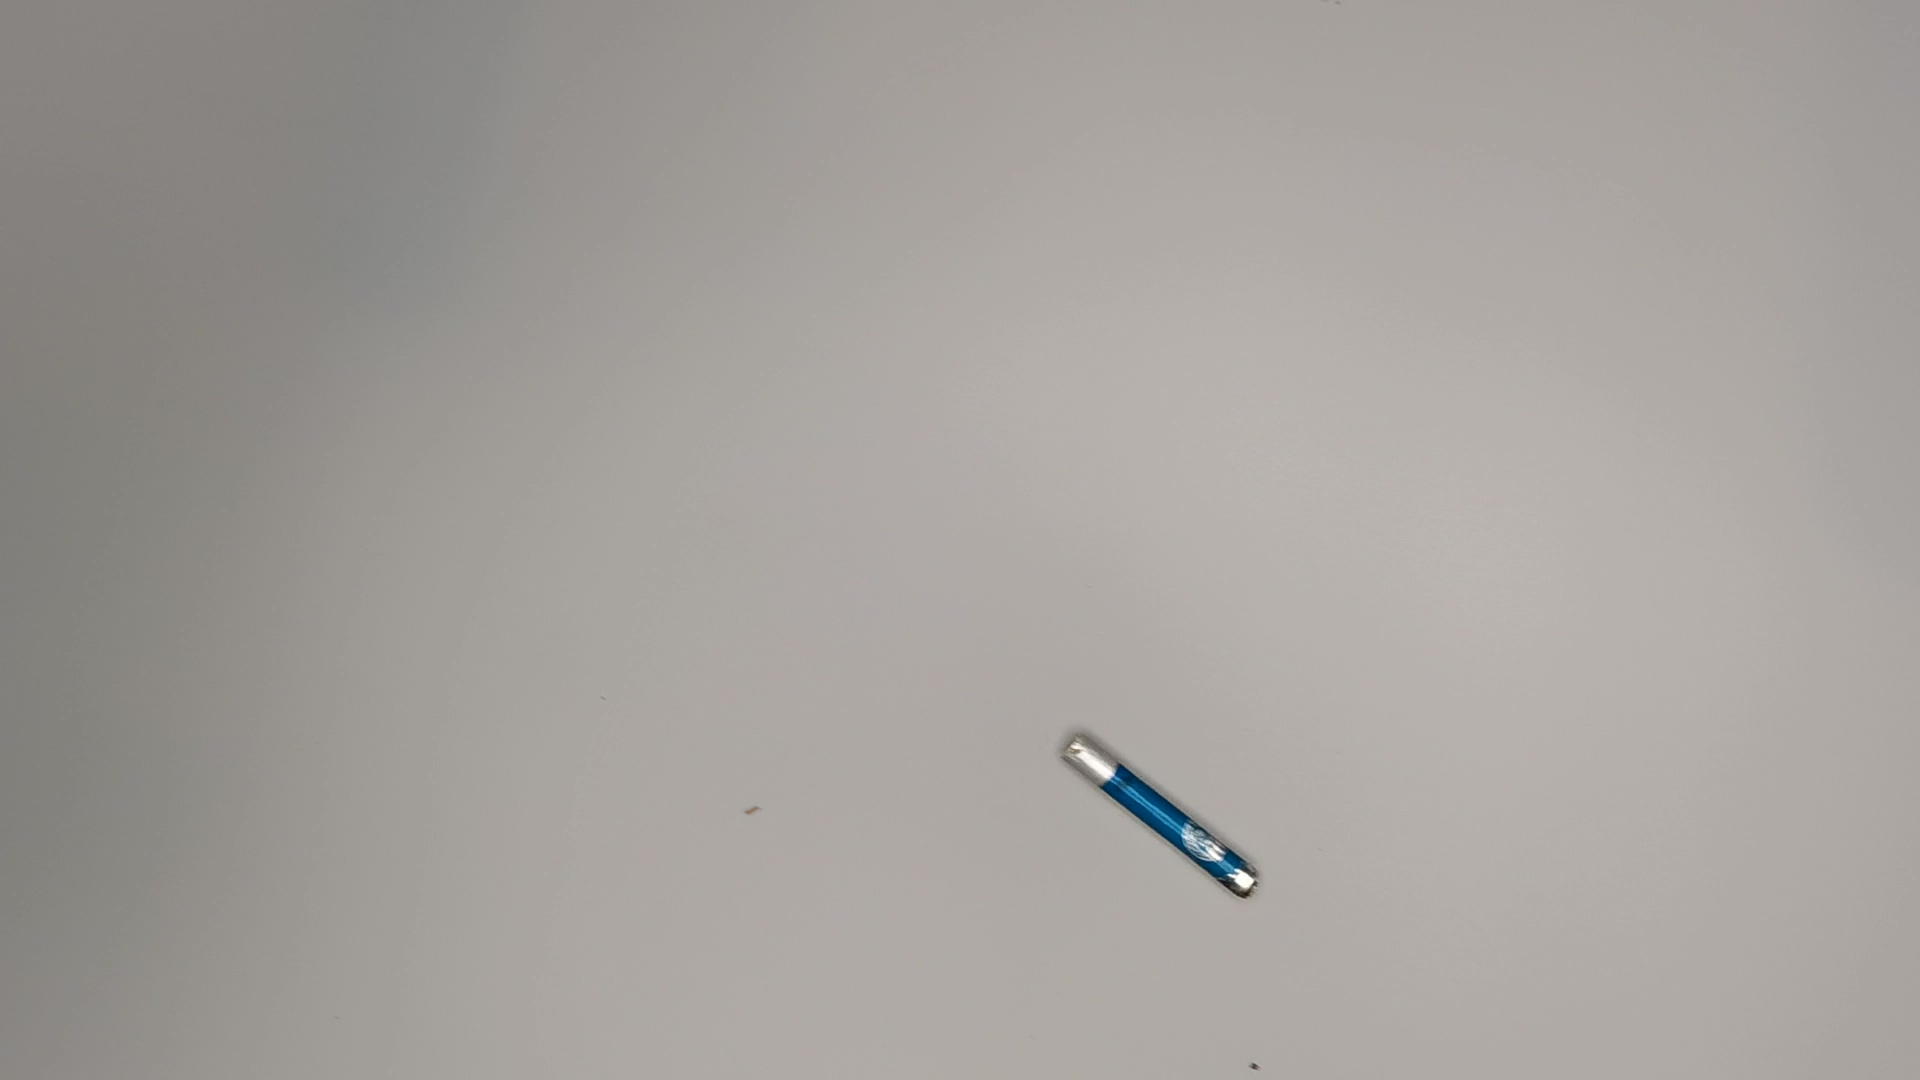cigarette: (1056, 723, 1265, 898)
